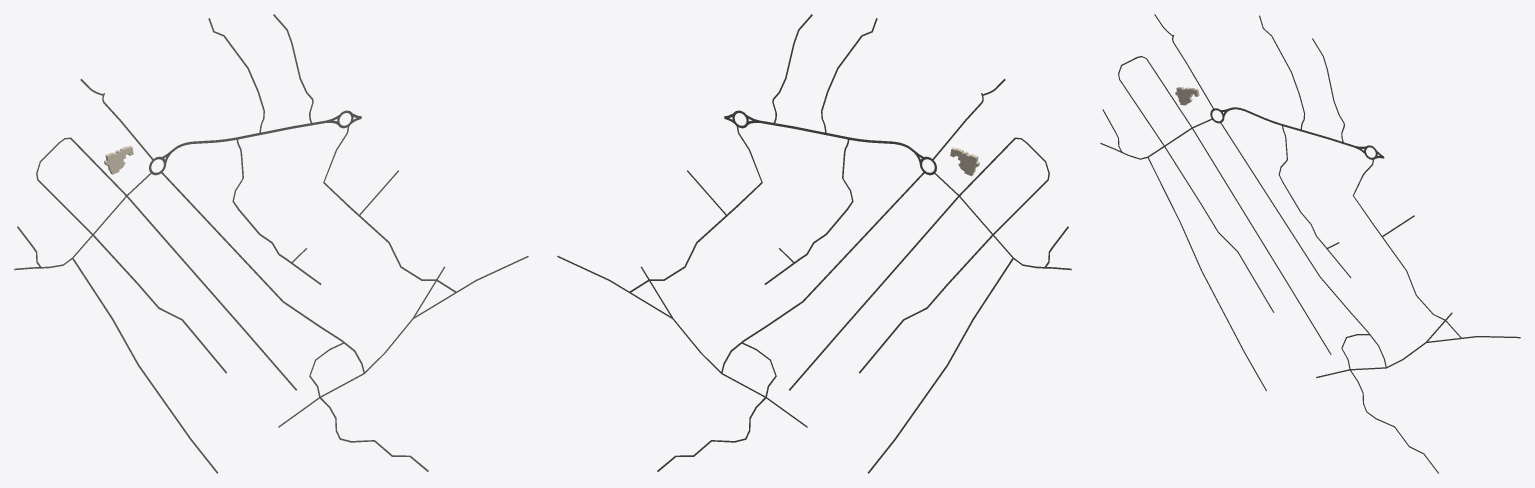
The model's file is historic-palestine-07_18_3490_3128.glb.
The picture shows the model from 3 angles, left to right: view 1: azimuth 30°, elevation 25°; view 2: azimuth 150°, elevation 25°; view 3: azimuth 330°, elevation 25°; orthographic projection. The views are drawn at different scales.
Parts seen in each view (by area): view 1: Road .010, Road .003, Road .007; view 2: Road .010, Road .003, Road .007; view 3: Road .010, Road .007.
Boxes of the visible parts, x1,y1,x2,y2 form: Road .010: (36, 137, 296, 390); Road .003: (278, 256, 528, 427); Road .007: (72, 258, 218, 473); Road .010: (789, 137, 1049, 390); Road .003: (557, 256, 807, 427); Road .007: (867, 258, 1013, 473); Road .010: (1118, 56, 1331, 354); Road .007: (1147, 157, 1266, 391).
Size of the model in its own units: 1087 by 1025 by 8.7.
